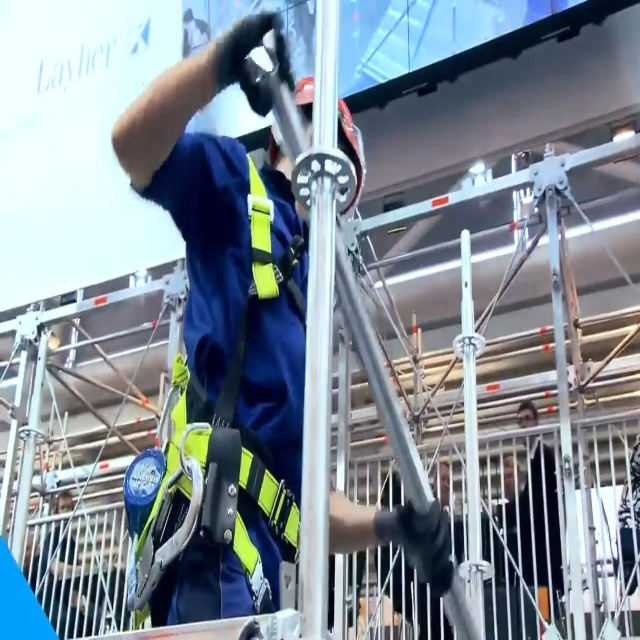Arnes_seguridad: (125, 112, 315, 640)
